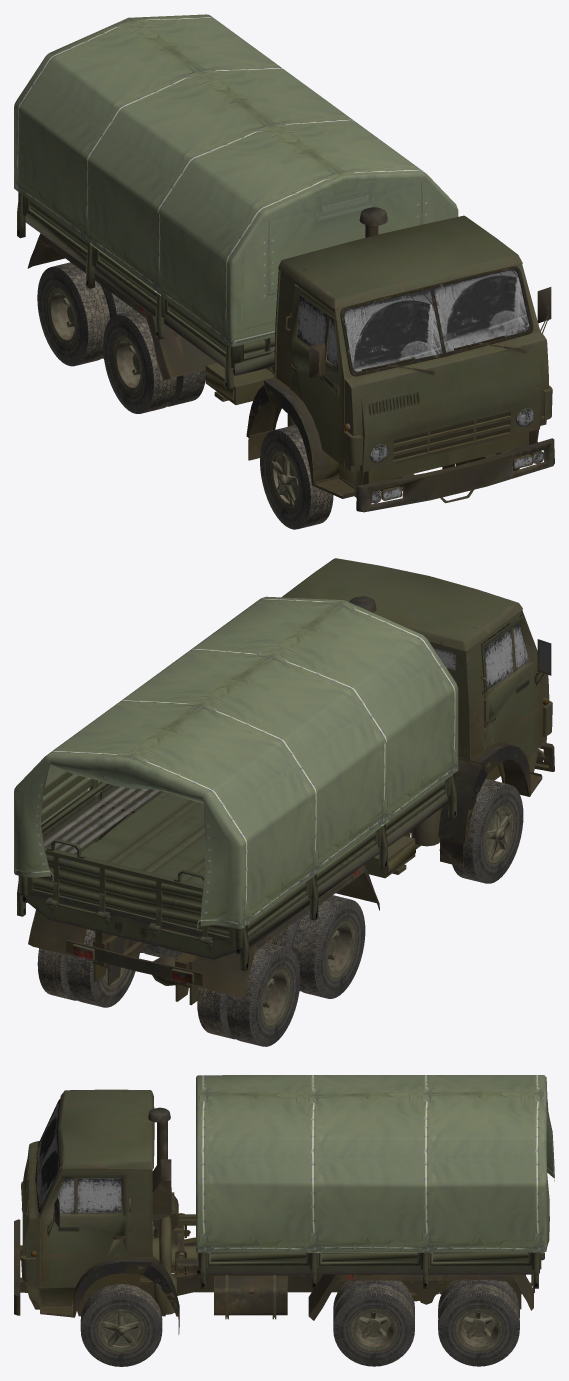
File: kmz.glb
3 views of the same model, one above another, from view 1: azimuth 30°, elevation 25°; view 2: azimuth 150°, elevation 25°; view 3: azimuth 270°, elevation 25° (orthographic). The views are drawn at different scales.
Parts seen in each view (by area): view 1: Kung_1, Body_0, Chassi_2; view 2: Kung_1, Chassi_2, Body_0; view 3: Kung_1, Body_0, Chassi_2.
Boxes of the visible parts, x1,y1,x2,y2 form: Kung_1: (14,14,458,346); Body_0: (27,207,554,512); Chassi_2: (17,192,543,529); Kung_1: (14,596,458,928); Chassi_2: (17,616,528,1046); Body_0: (28,558,554,1005); Kung_1: (196,1075,554,1252); Body_0: (14,1089,534,1334); Chassi_2: (21,1102,544,1366).
Size of the model in its own units: 3.06 by 3.5 by 7.4.
Materials: 5 (5 with a texture image).
